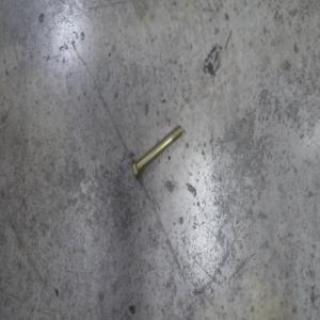Bolttrack_idkeyframe: (129, 122, 182, 183)
